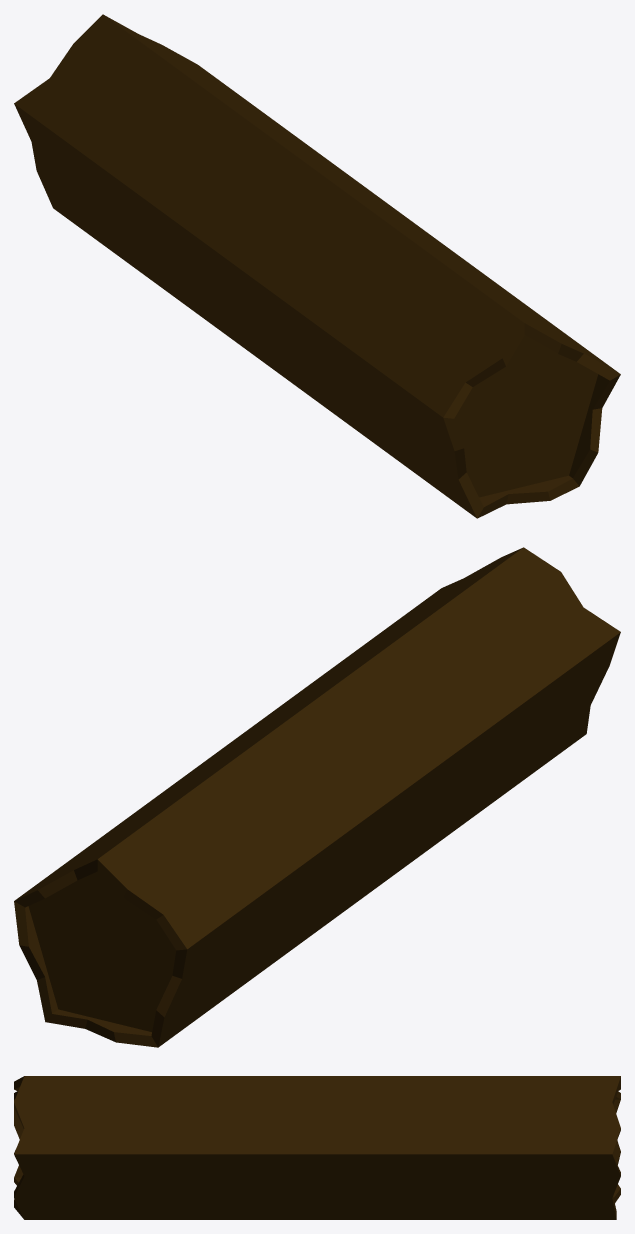
Rendered from Tree_Log_2.fbx.
3 renders of one model, top to bottom at view 1: azimuth 30°, elevation 25°; view 2: azimuth 150°, elevation 25°; view 3: azimuth 270°, elevation 25°, orthographic. The views are drawn at different scales.
Parts seen in each view (by area): view 1: TreeLog2; view 2: TreeLog2; view 3: TreeLog2.
Boxes of the visible parts, x1,y1,x2,y2 form: TreeLog2: [14, 14, 620, 518]; TreeLog2: [14, 547, 620, 1047]; TreeLog2: [14, 1076, 620, 1219].
Bounding box in the file's own units: 67.85 × 64.53 × 284.
